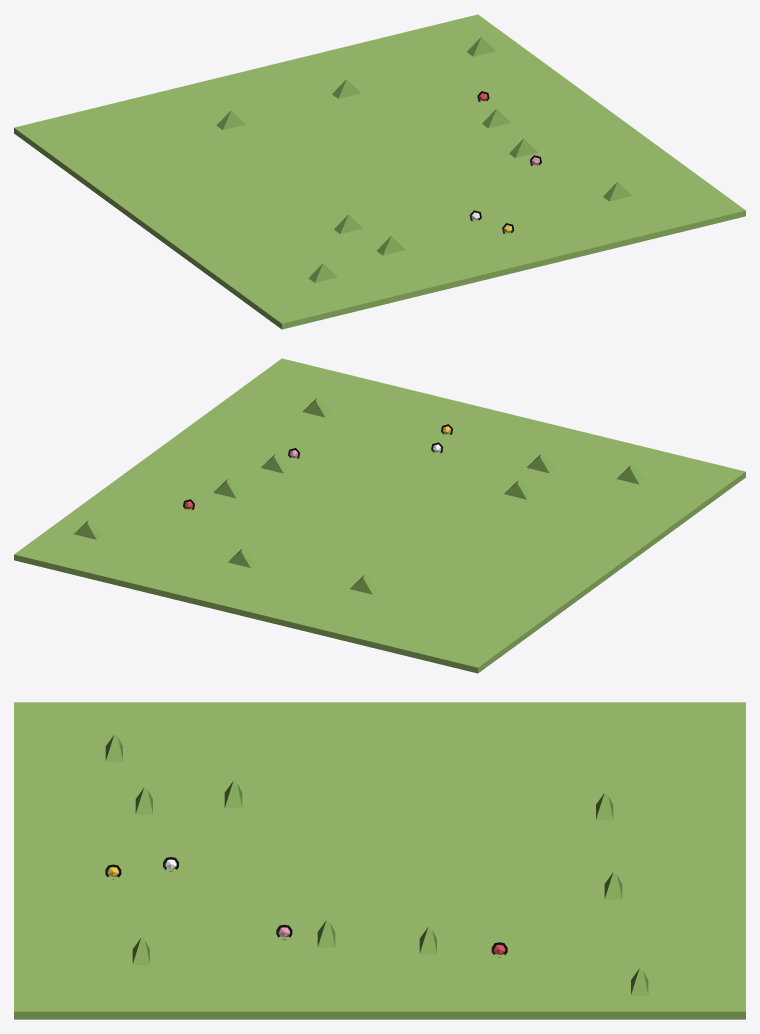
File: Yol_grass.fbx
3 views of the same model, one above another, from view 1: azimuth 30°, elevation 25°; view 2: azimuth 150°, elevation 25°; view 3: azimuth 270°, elevation 25° (orthographic). The views are drawn at different scales.
Parts seen in each view (by area): view 1: Yol_grass; view 2: Yol_grass; view 3: Yol_grass.
Boxes of the visible parts, left/top/right/bottom form: Yol_grass: left=14, top=14, right=745, bottom=329; Yol_grass: left=14, top=358, right=745, bottom=673; Yol_grass: left=14, top=702, right=745, bottom=1019.
Bounding box in the file's own units: 10 × 0.42 × 10.
